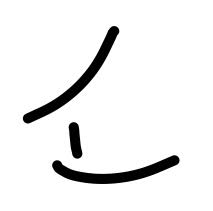i: (55, 116, 100, 166)
